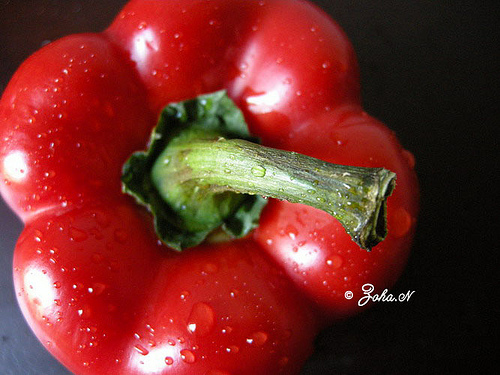capsicum: (0, 0, 419, 374)
